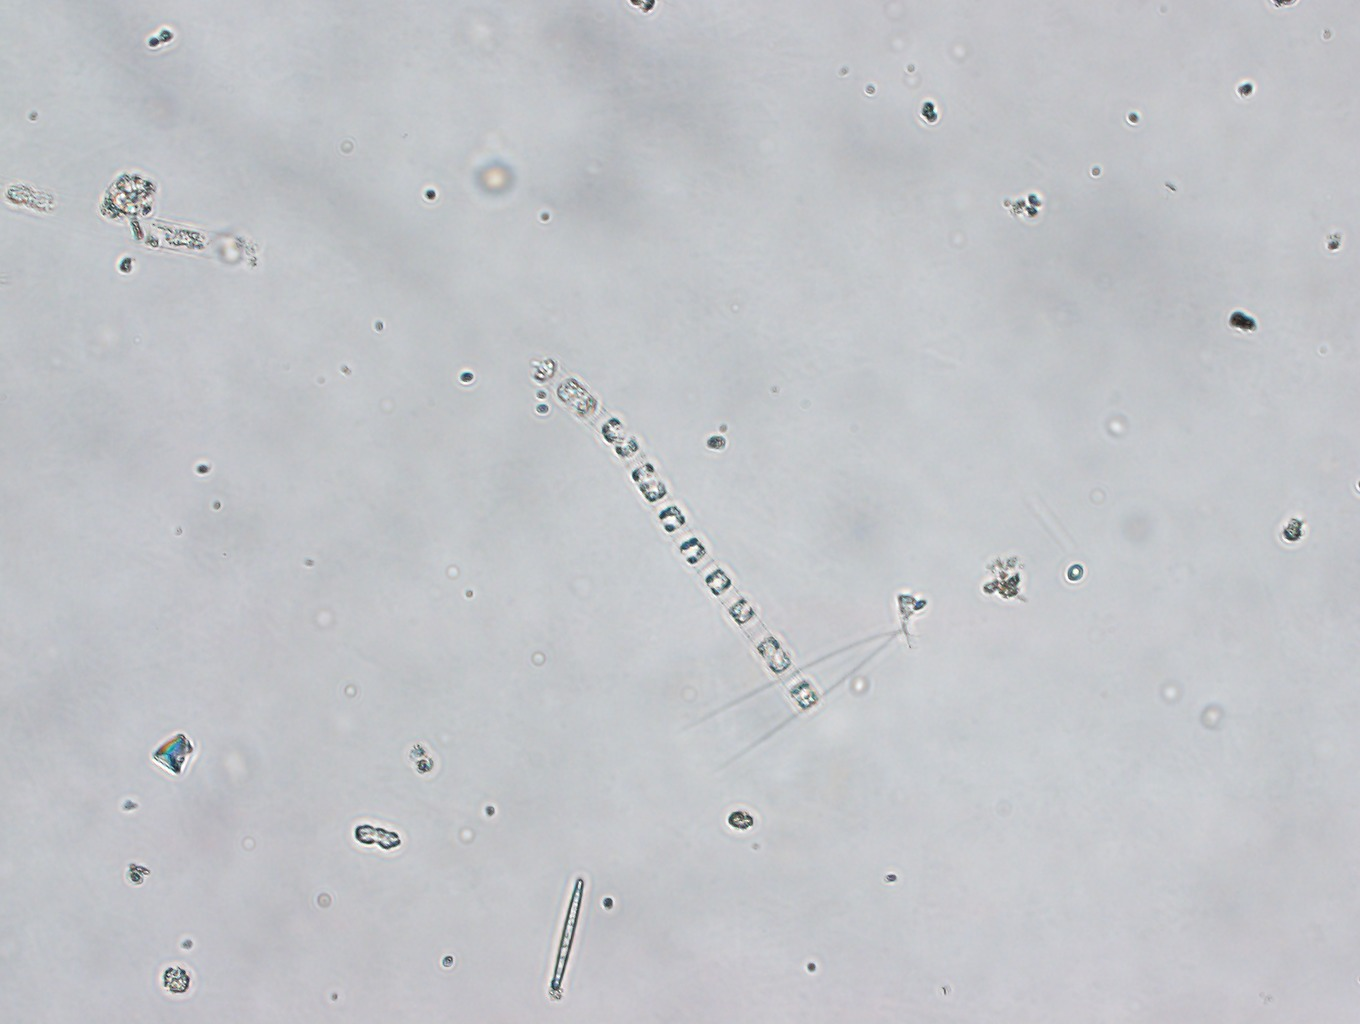skeletonema: (536, 365, 816, 712)
